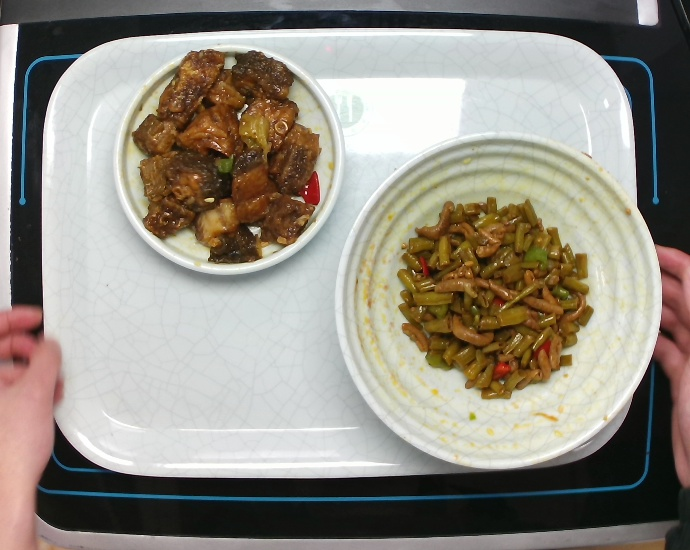JYsf-Da_Tang_Wan: (336, 131, 664, 472)
JYsf-Xiao_Yuan_Pan: (112, 49, 343, 278)
